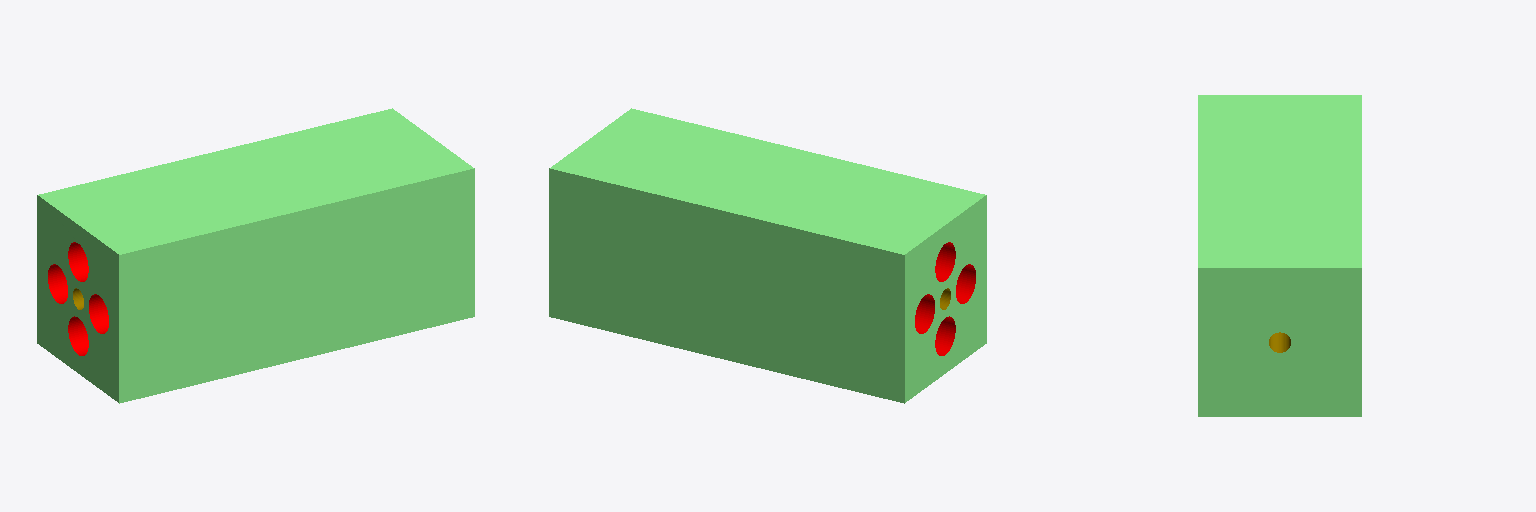
File: holeaprile2color.obj
3 renders of one model, left to right at view 1: azimuth 30°, elevation 25°; view 2: azimuth 150°, elevation 25°; view 3: azimuth 270°, elevation 25°, orthographic.
Visible parts, largest first — view 1: 1, 360; view 2: 1, 360; view 3: 1, 361.
Part boxes in pixels (left/top/right/bottom): 1: left=37, top=108, right=474, bottom=403; 360: left=68, top=314, right=108, bottom=355; 1: left=549, top=108, right=986, bottom=403; 360: left=935, top=275, right=975, bottom=355; 1: left=1198, top=95, right=1361, bottom=267; 361: left=1198, top=268, right=1361, bottom=416.
Bounding box in the file's own units: 2 × 0.8 × 0.8.